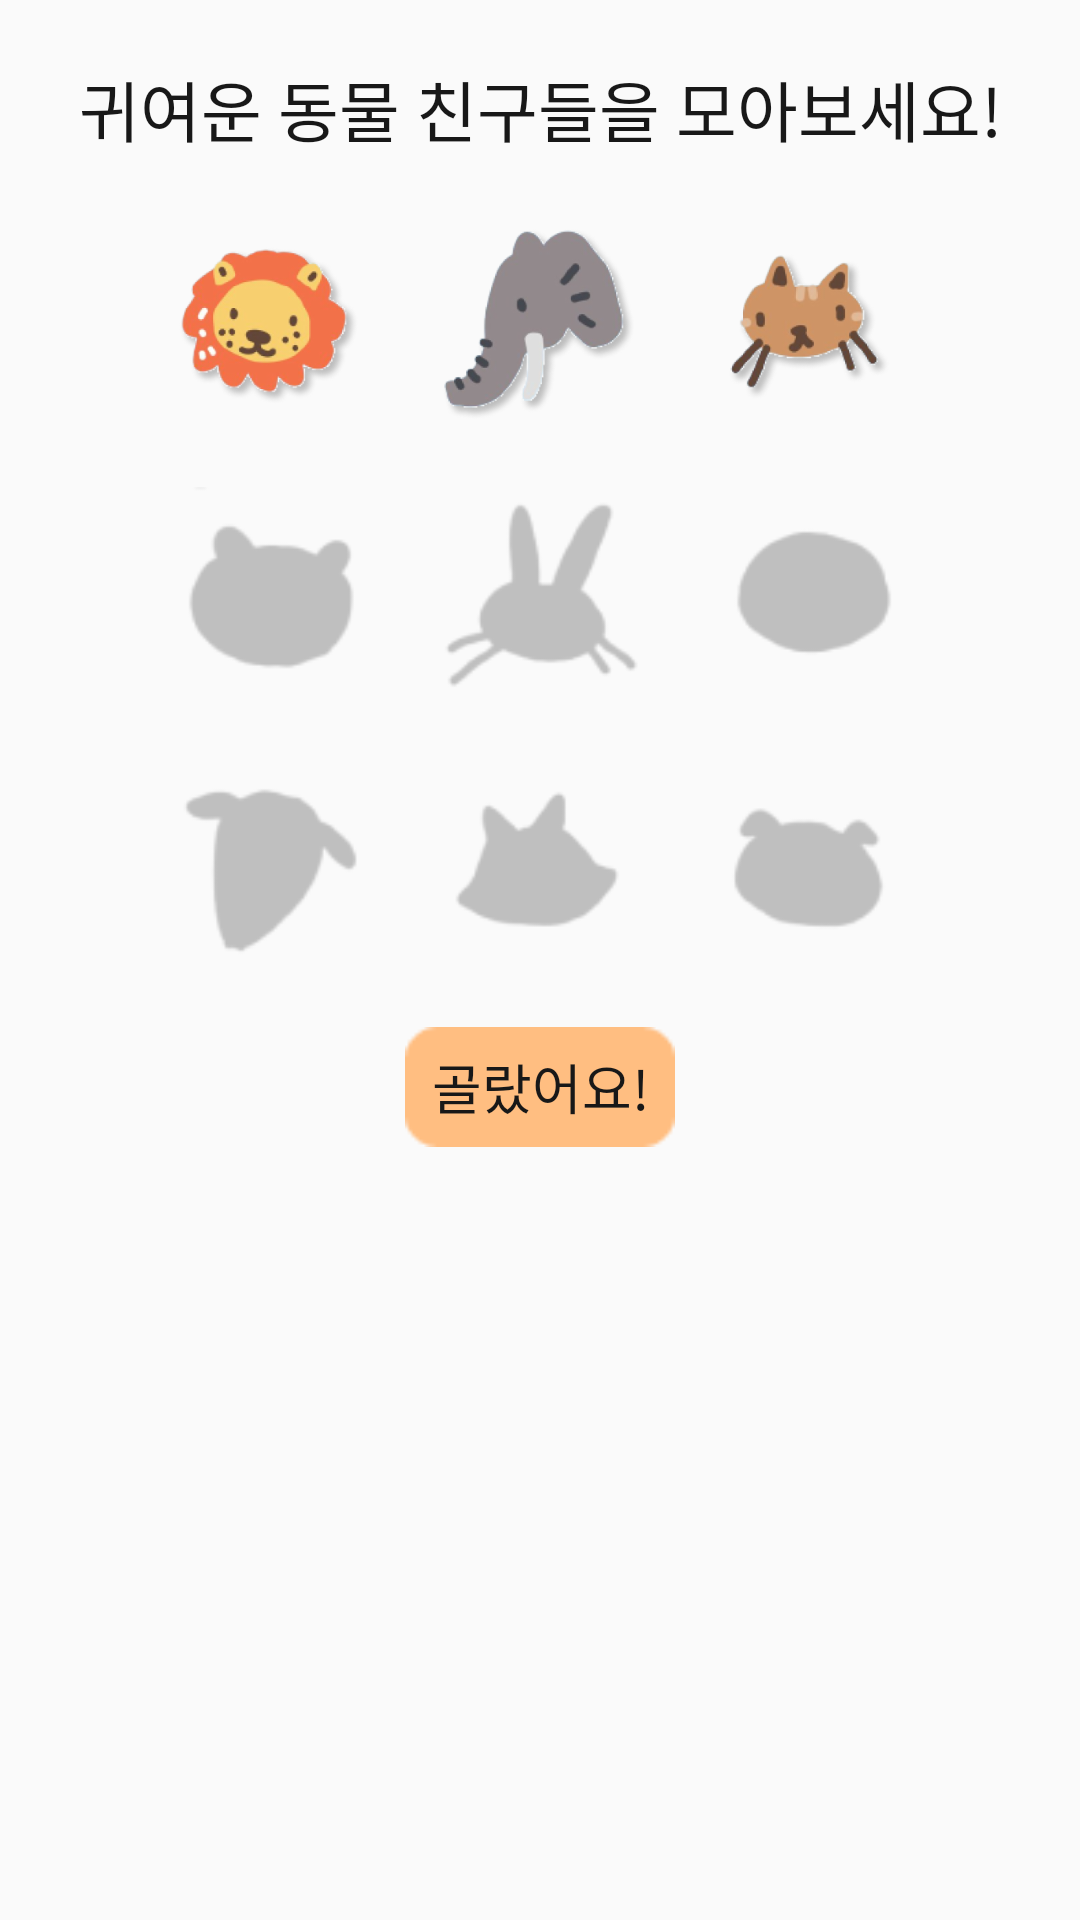

Locate icon controls on the screen. Image size 1080w x 1920h, boxes as [x1, y1, x2, y2].
bear disable: [190, 526, 352, 667]
cat: [731, 256, 883, 393]
elephant: [444, 231, 629, 413]
lion: [182, 249, 352, 398]
pig disable: [735, 810, 882, 926]
rabbit disable: [448, 505, 635, 685]
racoon disable: [457, 794, 617, 926]
